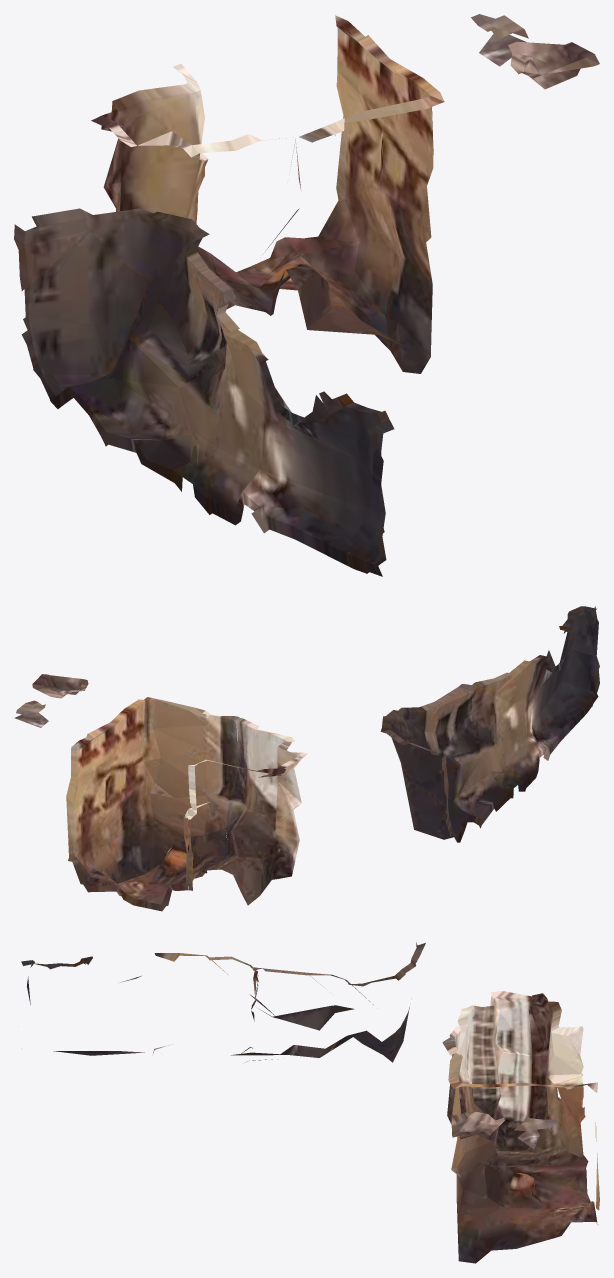
The picture shows the model from 3 angles, top to bottom: view 1: azimuth 30°, elevation 25°; view 2: azimuth 150°, elevation 25°; view 3: azimuth 270°, elevation 25°; orthographic projection. The views are drawn at different scales.
Parts seen in each view (by area): view 1: Mesh_0; view 2: Mesh_0; view 3: Mesh_0.
Part boxes in pixels (x1=…): Mesh_0: x1=14, y1=14, x2=599, y2=576; Mesh_0: x1=14, y1=606, x2=599, y2=911; Mesh_0: x1=21, y1=942, x2=599, y2=1263.
Bounding box in the file's own units: 28.91 × 13.04 × 36.36.
Materials: 1 (1 with a texture image).
